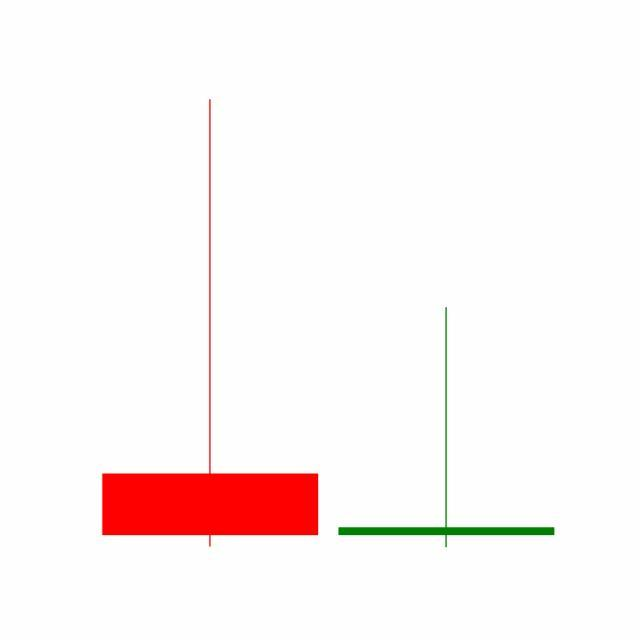Gravestone Doji: (328, 304, 566, 551)
